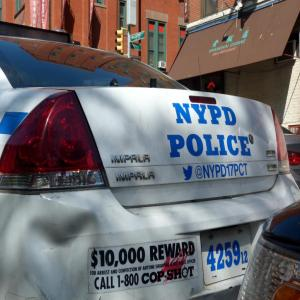Vehicle-registration-plate: (201, 228, 252, 286)
